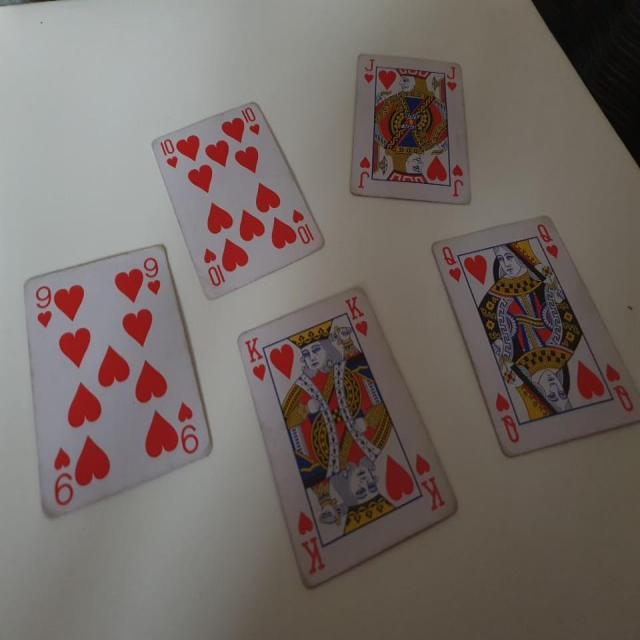10 Hearts: (150, 90, 327, 301)
9 Hearts: (15, 242, 214, 540)
J Hearts: (341, 38, 476, 217)
K Hearts: (235, 284, 462, 598)
Q Hearts: (432, 215, 640, 454)
